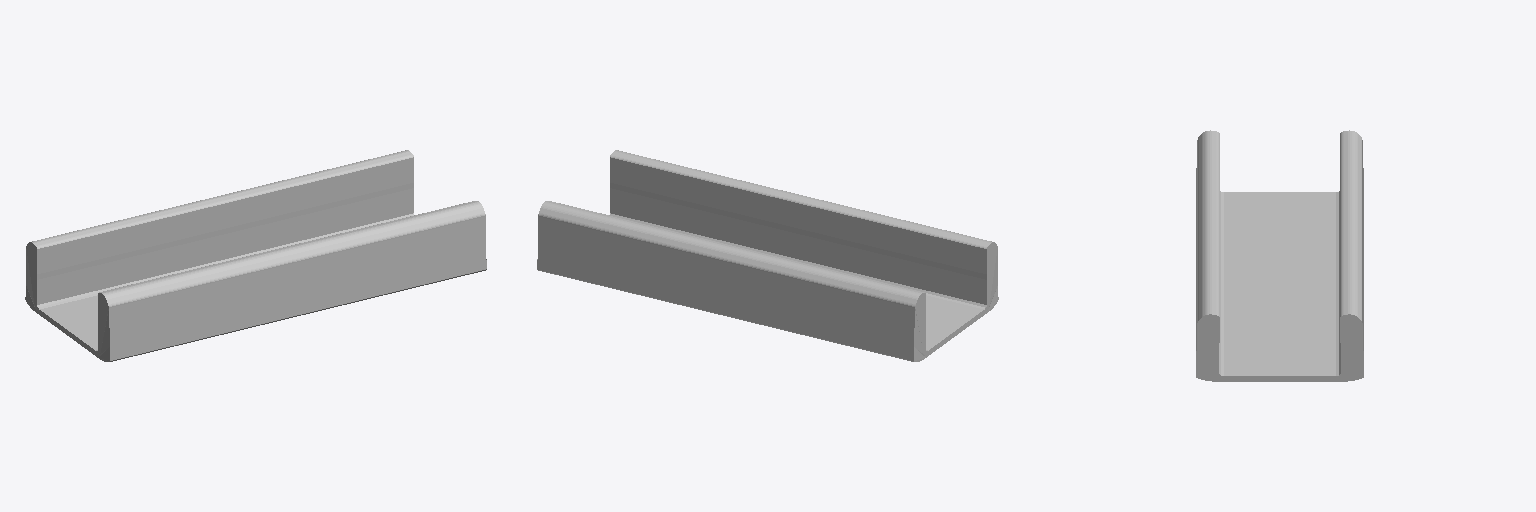
Rendered from bridge.obj.
3 renders of one model, left to right at view 1: azimuth 30°, elevation 25°; view 2: azimuth 150°, elevation 25°; view 3: azimuth 270°, elevation 25°, orthographic.
Parts seen in each view (by area): view 1: Cube; view 2: Cube; view 3: Cube.
Boxes of the visible parts, x1,y1,x2,y2 form: Cube: [25, 150, 486, 361]; Cube: [537, 150, 998, 361]; Cube: [1196, 130, 1363, 381].
Bounding box in the file's own units: 22.97 × 3.91 × 8.91.